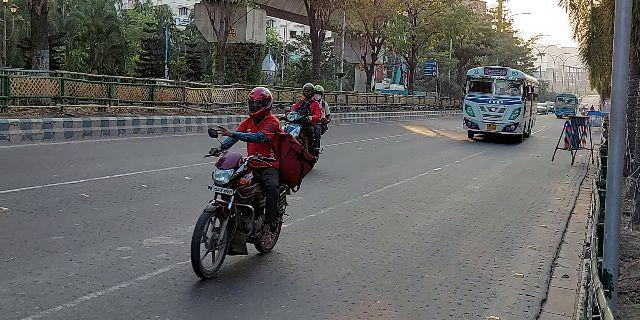Bus: (457, 61, 531, 147)
Motorbike: (182, 83, 292, 282), (288, 80, 328, 175)
